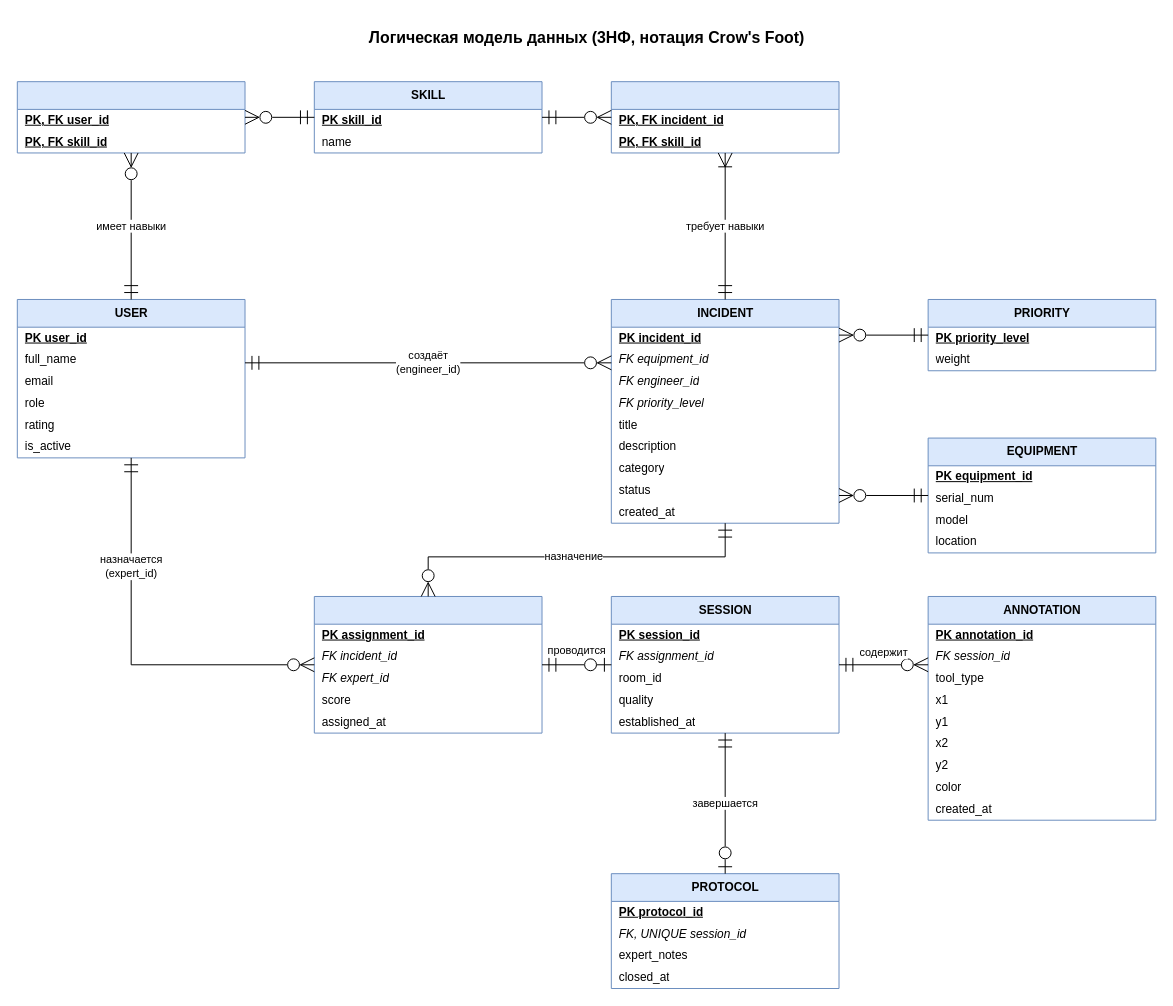
This 1173x1006 diagram has some shape labels left out. The box of each missing label's shape, as (x1, y1, x2, y2) in pixels:
EXPERT_ASSIGNMENT: (313, 595, 542, 733)
INCIDENT_SKILL: (610, 81, 839, 153)
USER_SKILL: (16, 81, 245, 153)
